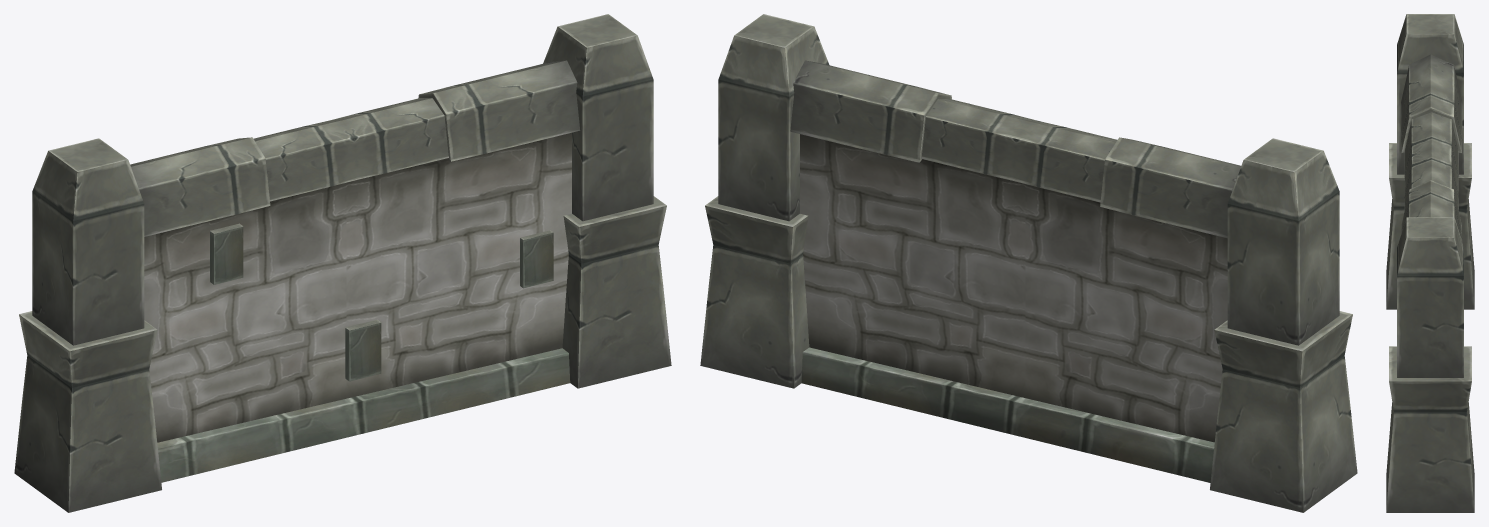
Rendered from wall_02a.fbx.
3 renders of one model, left to right at view 1: azimuth 30°, elevation 25°; view 2: azimuth 150°, elevation 25°; view 3: azimuth 270°, elevation 25°, orthographic. The views are drawn at different scales.
Parts seen in each view (by area): view 1: wall_02a:Mesh; view 2: wall_02a:Mesh; view 3: wall_02a:Mesh.
Part boxes in pixels (x1,y1,x2,y2): wall_02a:Mesh: (14, 14, 671, 512); wall_02a:Mesh: (700, 14, 1357, 512); wall_02a:Mesh: (1386, 14, 1474, 512).
Bounding box in the file's own units: 5.43 × 2.81 × 0.8432.
